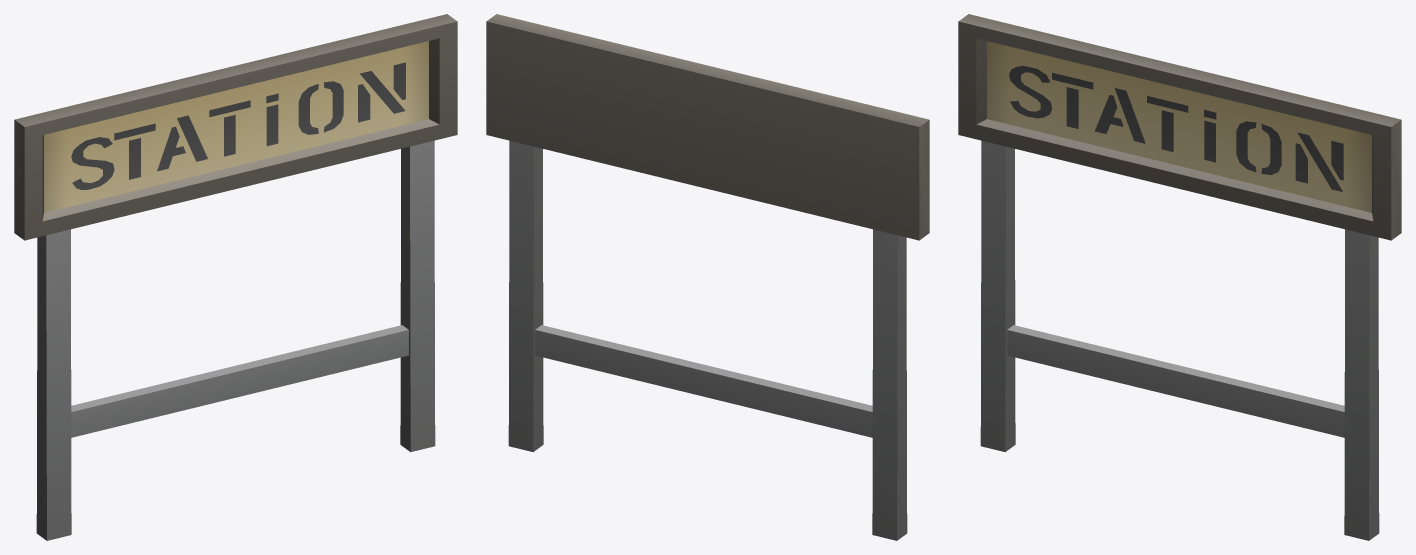
The model's file is Railway_Station_Sign.fbx.
3 renders of one model, left to right at view 1: azimuth 30°, elevation 25°; view 2: azimuth 150°, elevation 25°; view 3: azimuth 330°, elevation 25°, orthographic.
Parts seen in each view (by area): view 1: Railway_Station_Sign; view 2: Railway_Station_Sign; view 3: Railway_Station_Sign.
Boxes of the visible parts, x1=… form: Railway_Station_Sign: x1=14, y1=14, x2=457, y2=540; Railway_Station_Sign: x1=486, y1=14, x2=929, y2=540; Railway_Station_Sign: x1=958, y1=14, x2=1401, y2=540.
Bounding box in the file's own units: 236 × 218 × 9.62.
